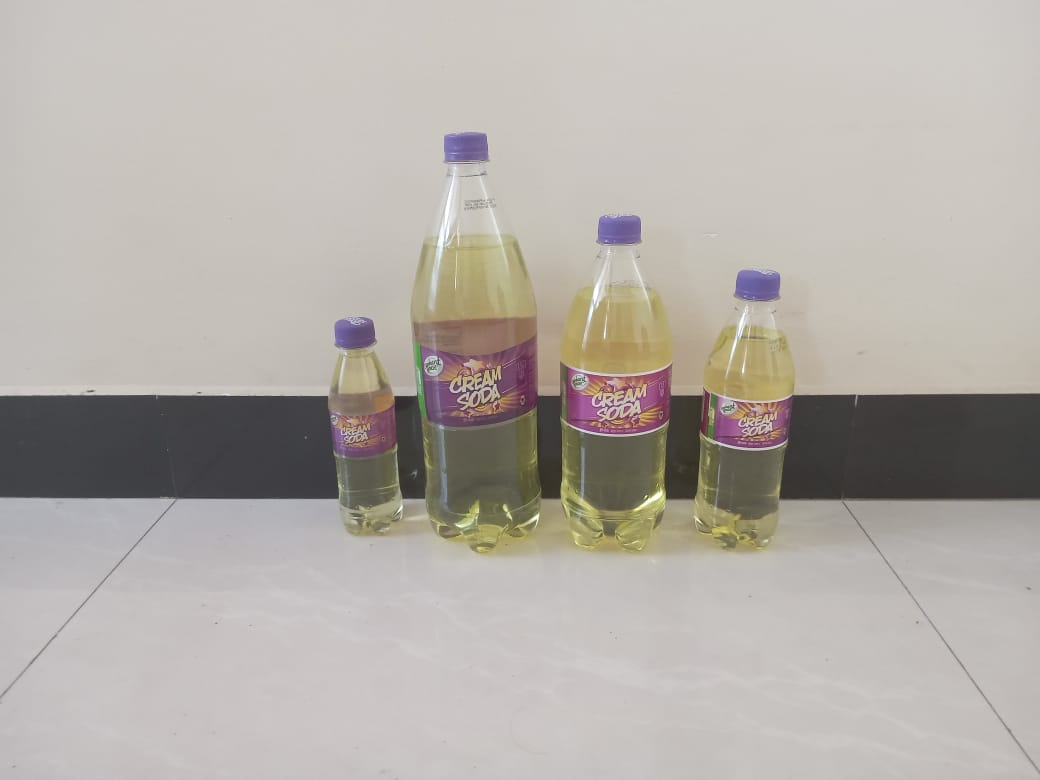L: (411, 134, 545, 550)
M: (561, 219, 673, 552)
S: (695, 267, 794, 550)
Xs: (319, 321, 401, 538)
